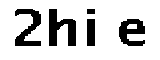2: (11, 8, 44, 49)
e: (116, 14, 150, 51)
h: (48, 2, 78, 51)
i: (83, 4, 98, 51)
